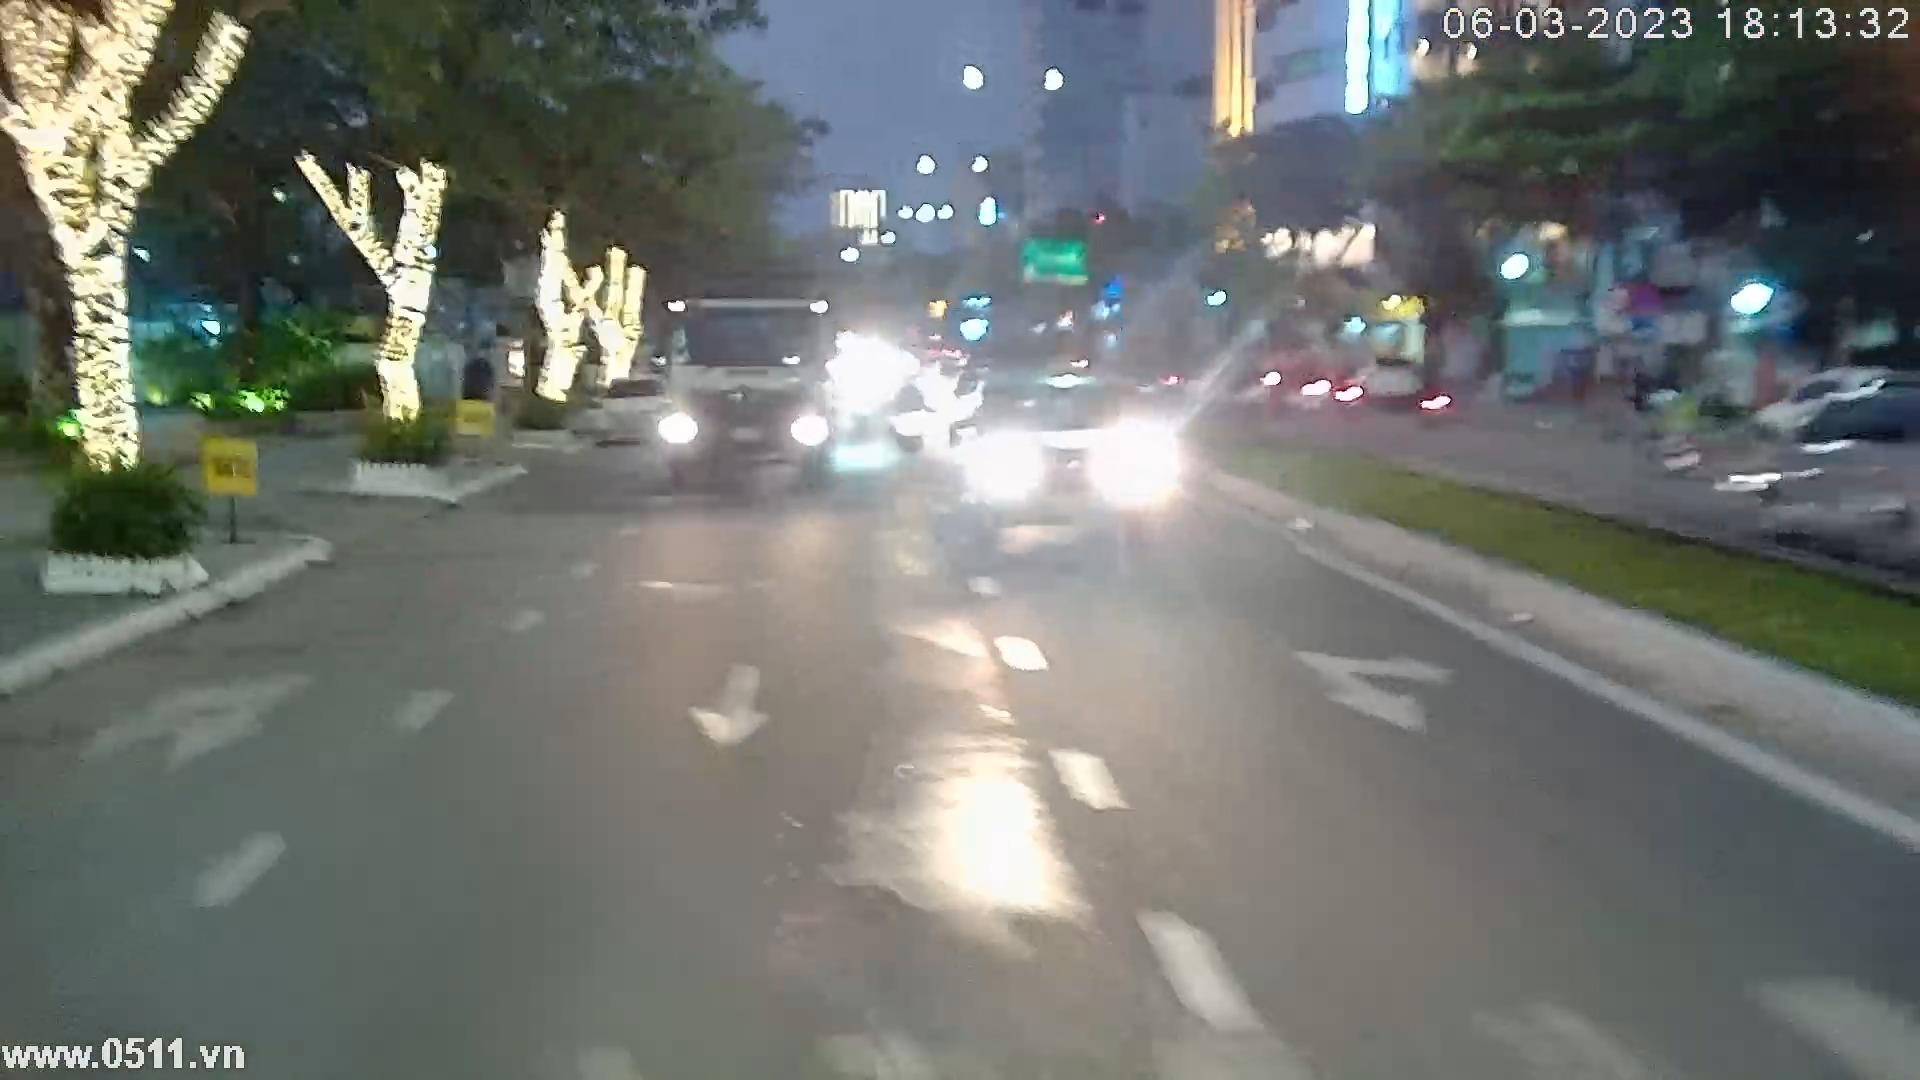car: (968, 368, 1138, 545), (1764, 386, 1920, 578)
truck: (655, 274, 844, 502)
